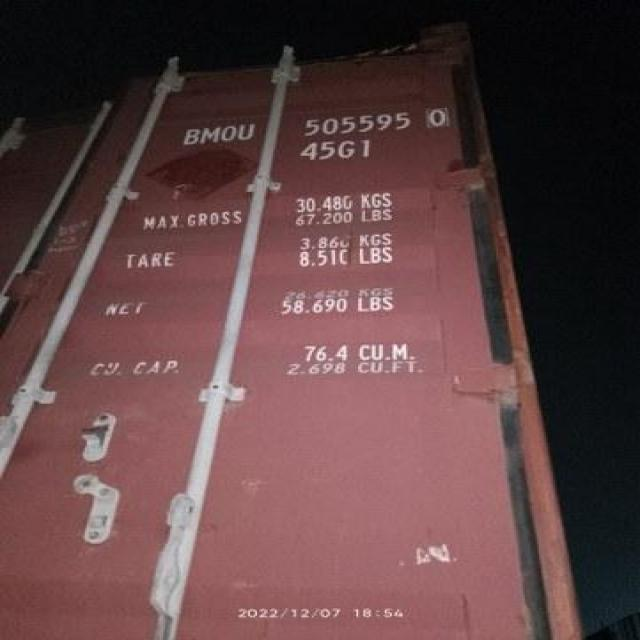ISO: (302, 137, 373, 161)
container_number: (179, 103, 456, 152)
